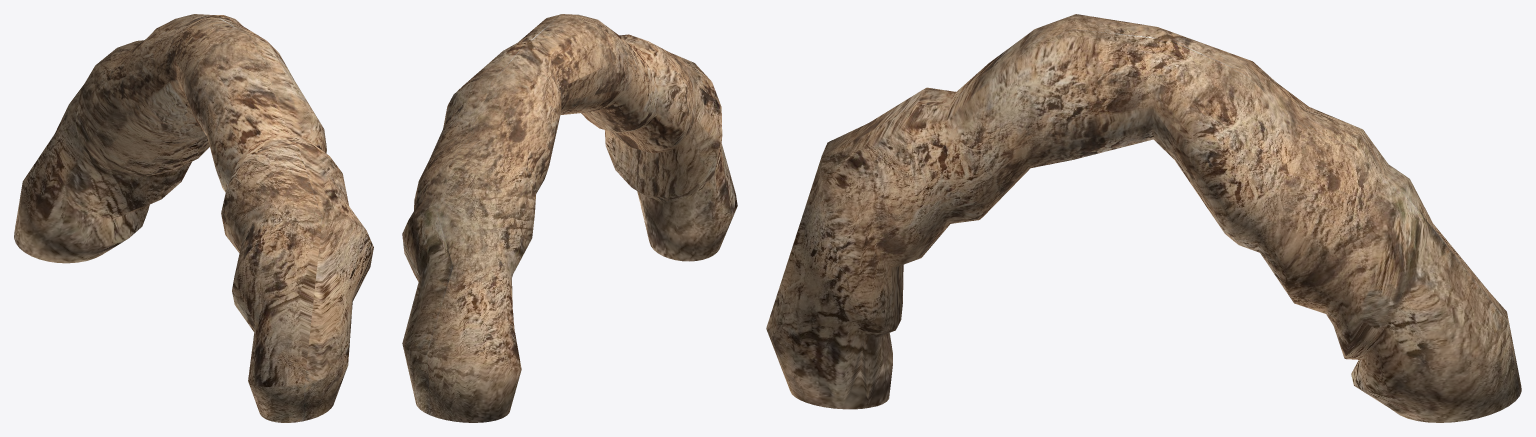
File: arch_rock.obj
3 renders of one model, left to right at view 1: azimuth 30°, elevation 25°; view 2: azimuth 150°, elevation 25°; view 3: azimuth 270°, elevation 25°, orthographic. The views are drawn at different scales.
Parts seen in each view (by area): view 1: Circle; view 2: Circle; view 3: Circle.
Boxes of the visible parts, x1,y1,x2,y2 form: Circle: (14,14,373,422); Circle: (402,14,737,422); Circle: (766,14,1521,422).
Size of the model in its own units: 4.27 by 7.89 by 13.47.
Materials: 1 (1 with a texture image).
